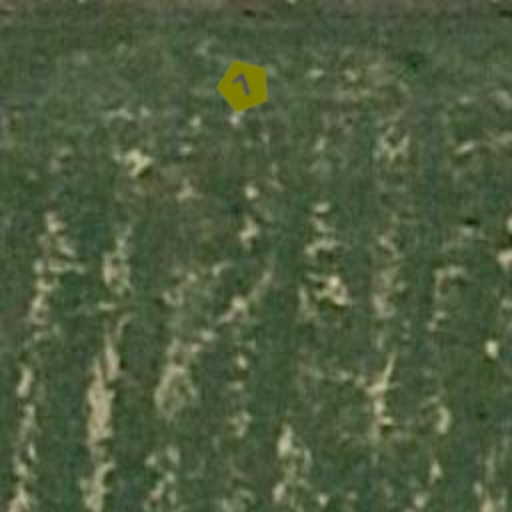pentagon: (204, 46, 284, 126)
